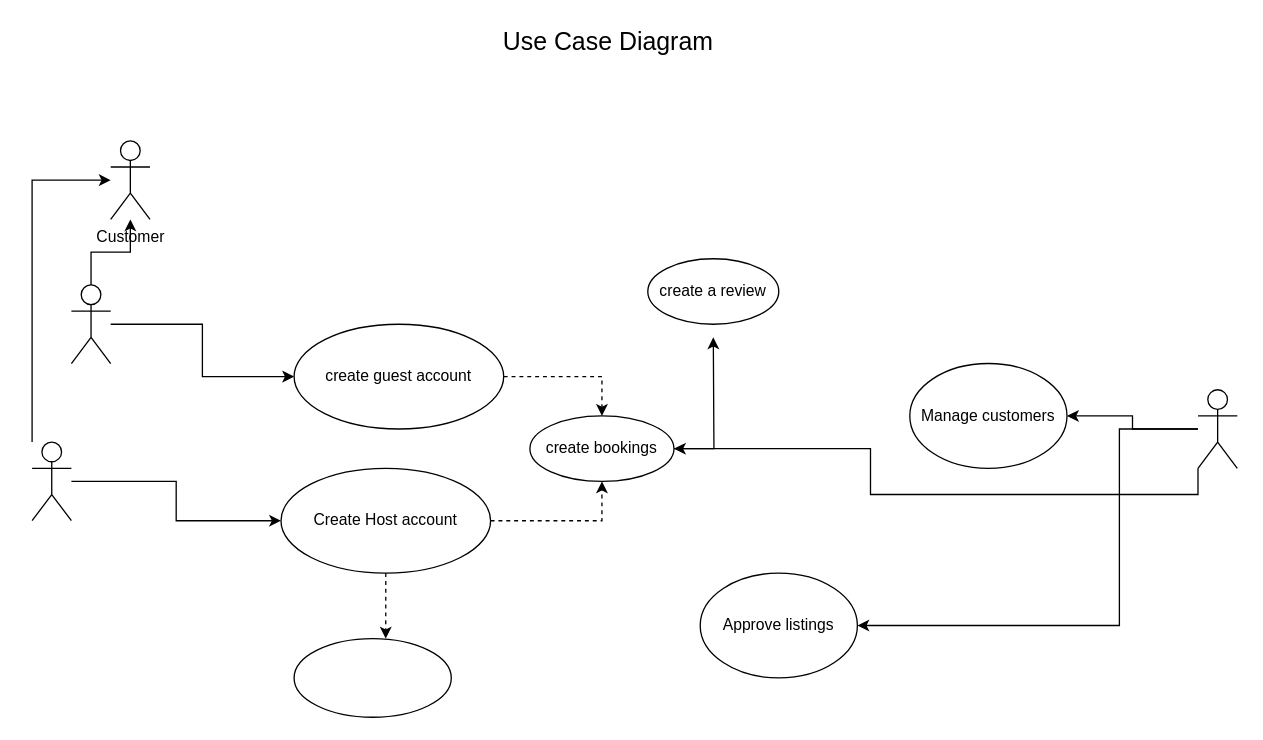
The diagram is 1263 pixels wide and 740 high, and some of its shapes have lost their labels. The centre of each missing label's shape, as x and y in pixels:
"Admin" goes at (1217,428).
"Create listings" goes at (372,677).
"Guest" goes at (90,324).
"Host" goes at (51,481).
